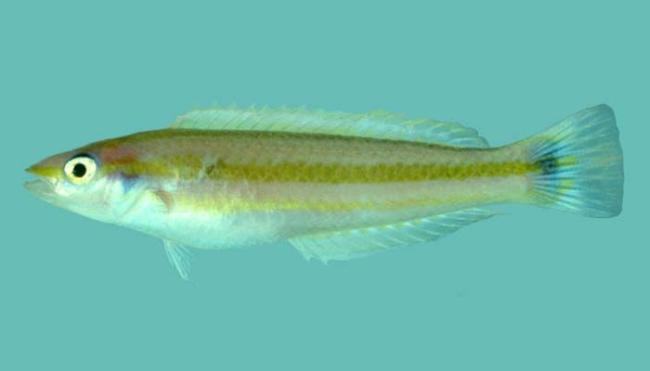fish: (23, 101, 625, 280)
